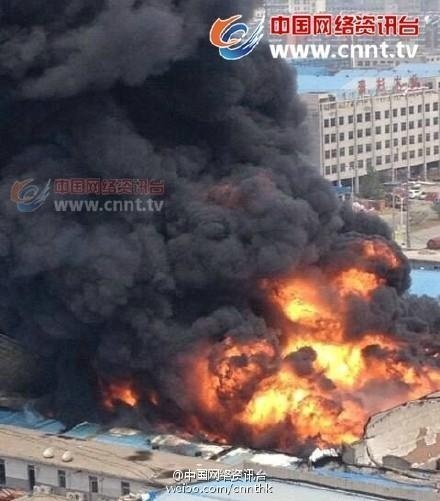fire: (189, 252, 434, 451)
